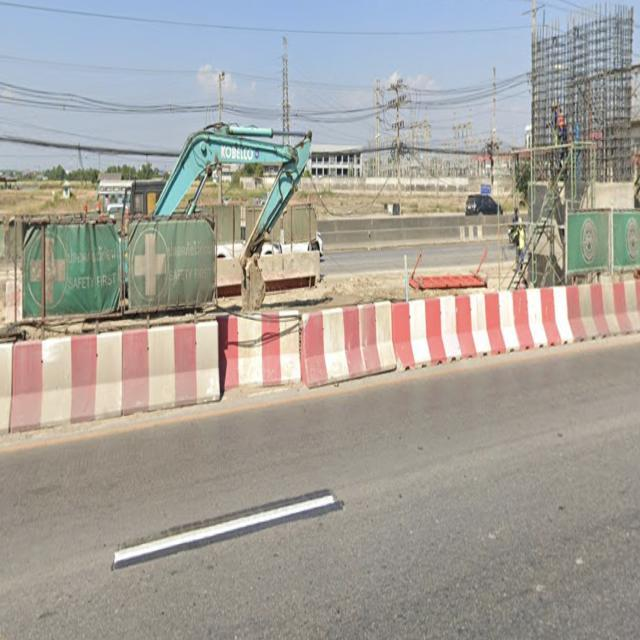fallen_object: (0, 315, 220, 426), (390, 273, 589, 352), (290, 300, 418, 386), (207, 302, 325, 393), (551, 250, 640, 348)
